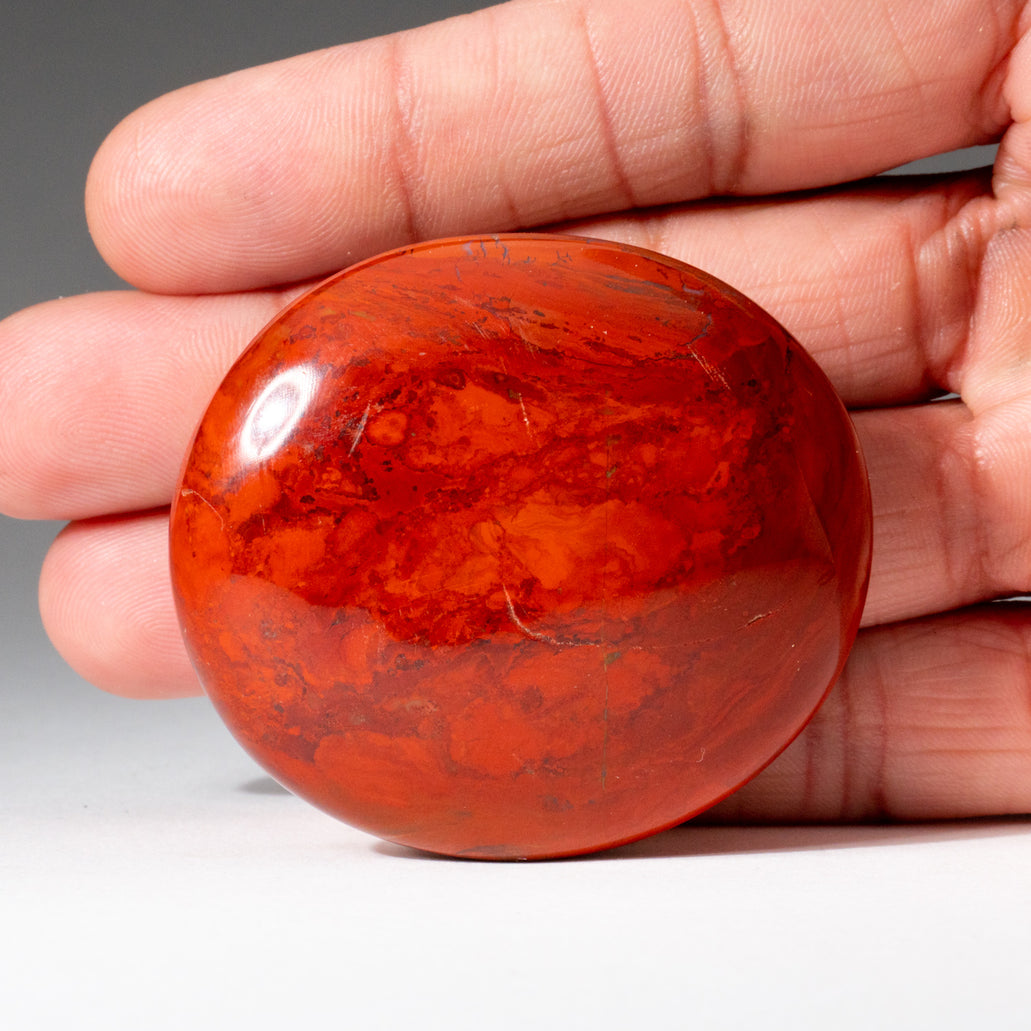Red_Jasper: (166, 238, 874, 865)
